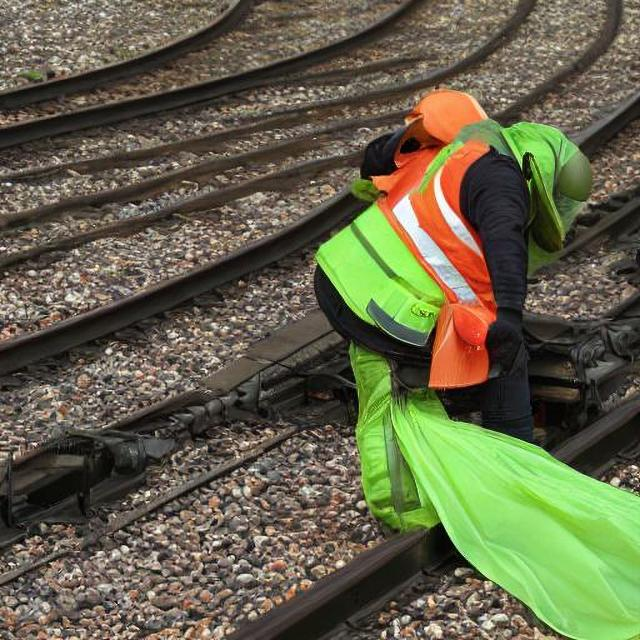floating object: (350, 347, 638, 639)
